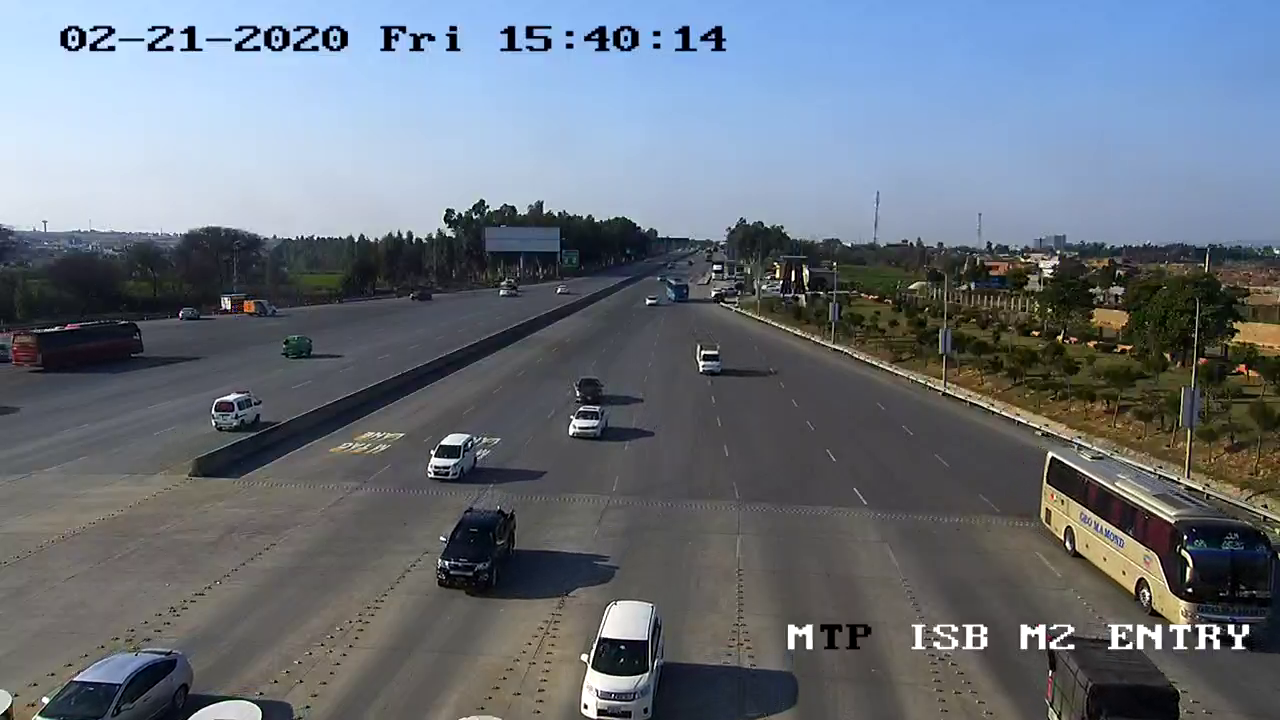f1: (566, 594, 682, 720), (428, 497, 523, 600), (417, 424, 479, 491), (562, 398, 612, 444)
f4: (1035, 440, 1280, 621)
